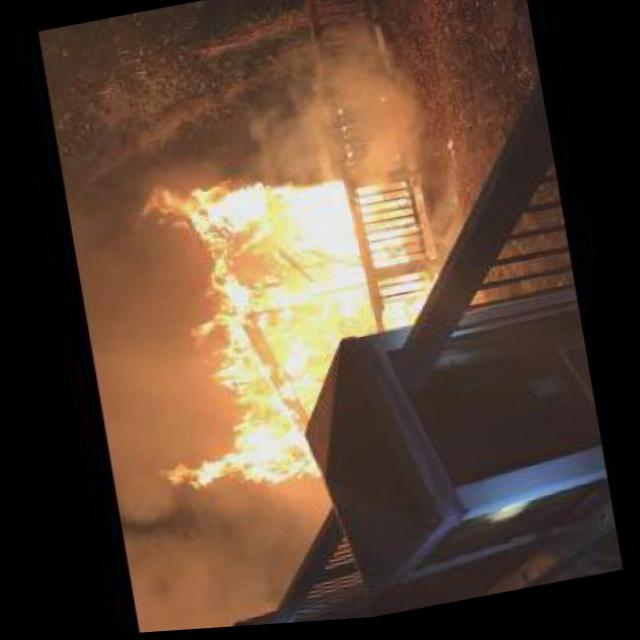Fire: (107, 130, 444, 511)
